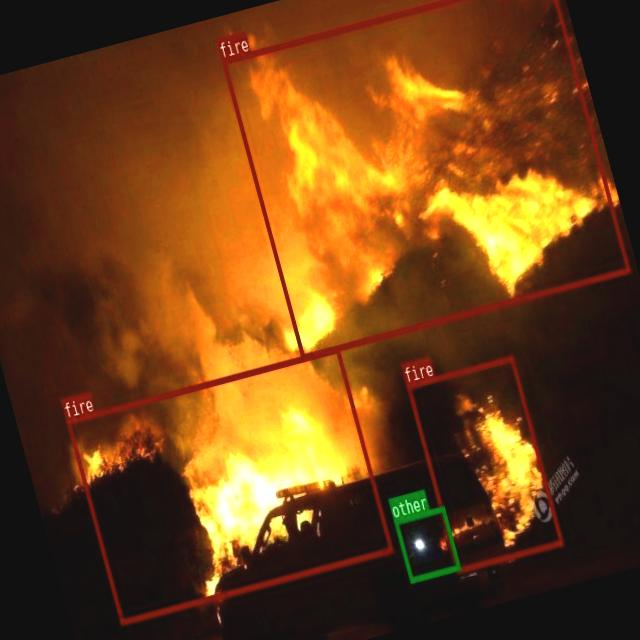fire: (220, 0, 629, 358), (65, 346, 393, 624), (406, 355, 562, 572)
